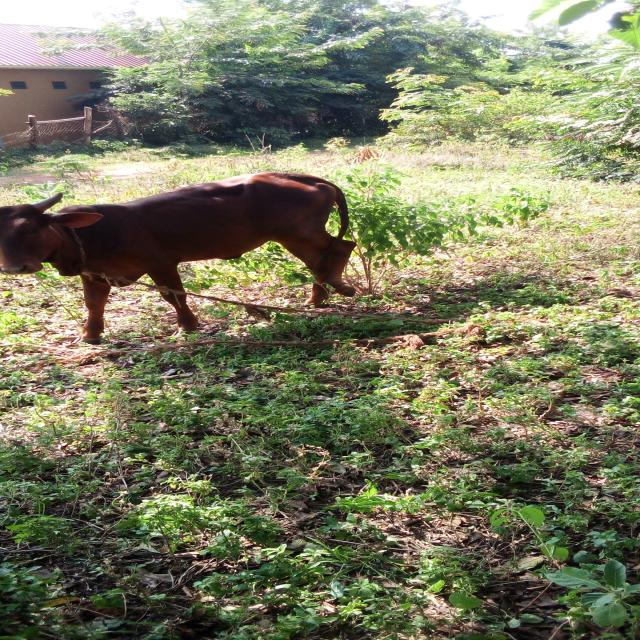Left: (0, 172, 356, 344)
